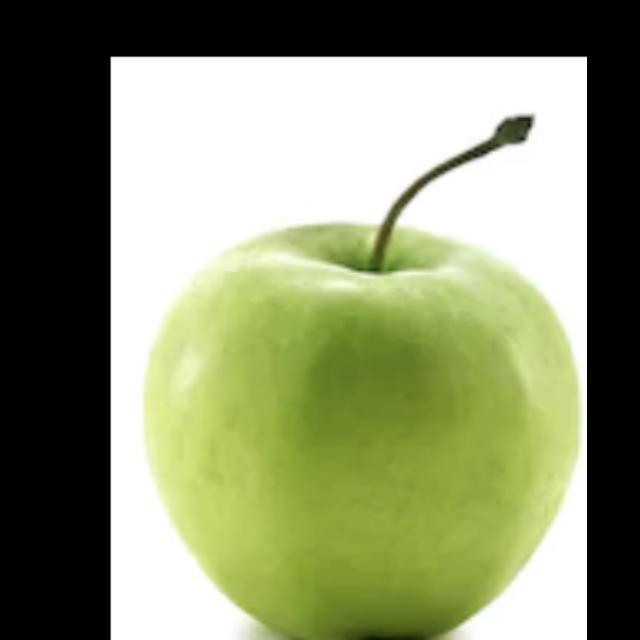Apel Segar: (135, 160, 578, 640)
